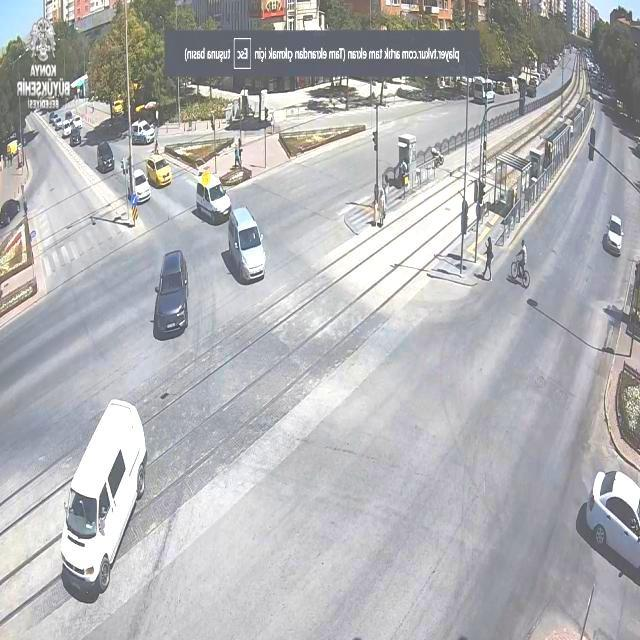Car: (582, 470, 640, 580), (153, 250, 189, 336), (195, 172, 231, 222), (145, 153, 172, 187), (128, 169, 152, 204), (604, 214, 624, 253), (0, 199, 21, 228), (96, 142, 115, 171), (70, 127, 82, 146), (49, 113, 62, 129), (71, 114, 83, 130)
Cycle: (509, 255, 531, 288)
Van: (60, 402, 145, 595), (227, 206, 265, 280), (132, 120, 156, 145)
